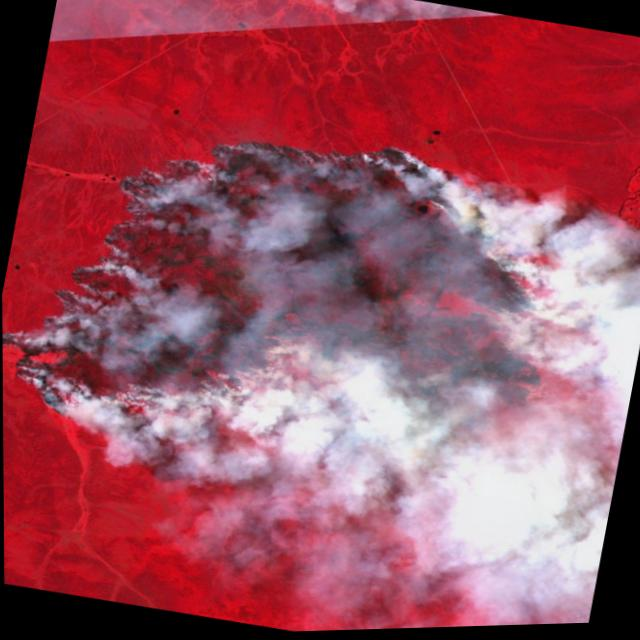fire: (1, 73, 582, 512)
